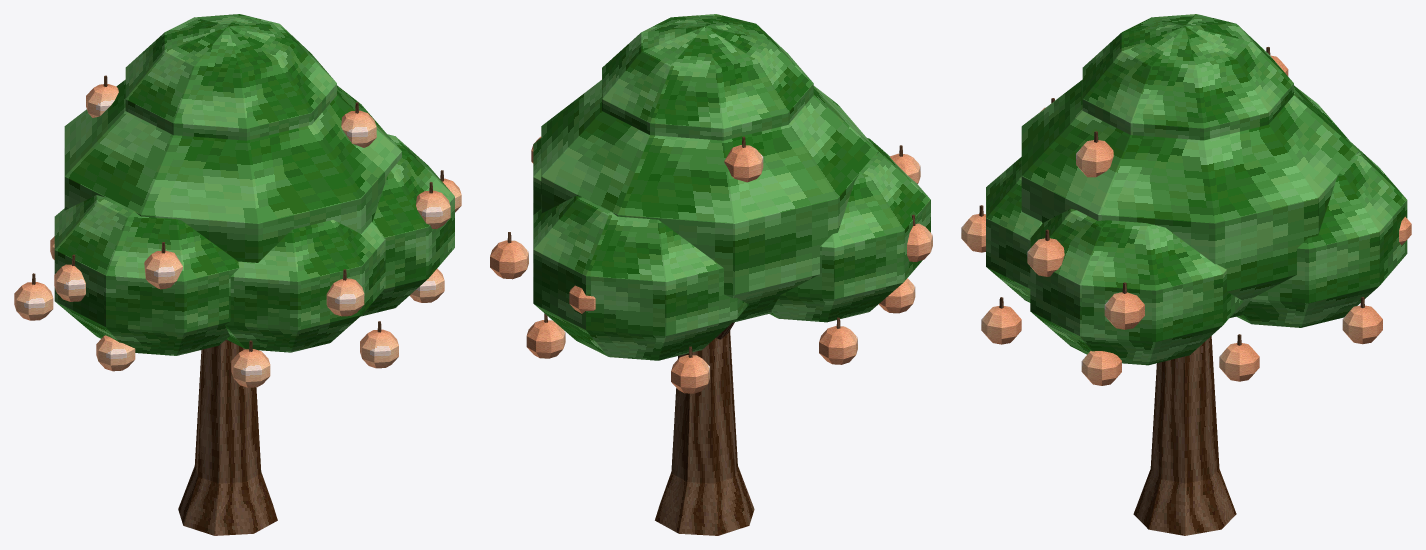
Rendered from arvore_frutifera_pessegueiro.glb.
3 renders of one model, left to right at view 1: azimuth 30°, elevation 25°; view 2: azimuth 150°, elevation 25°; view 3: azimuth 270°, elevation 25°, orthographic.
Visible parts, largest first — view 1: Tree_Body, Fruits; view 2: Tree_Body, Fruits; view 3: Tree_Body, Fruits.
Part boxes in pixels (left/top/right/bottom): Tree_Body: left=32, top=14, right=454, bottom=535; Fruits: left=14, top=84, right=461, bottom=387; Tree_Body: left=507, top=14, right=930, bottom=535; Fruits: left=490, top=136, right=932, bottom=393; Tree_Body: left=979, top=14, right=1407, bottom=535; Fruits: left=961, top=55, right=1411, bottom=385.
Bounding box in the file's own units: 3.54 × 4.13 × 3.46.
Materials: 1 (1 with a texture image).
